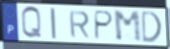D: (141, 10, 163, 45)
I: (49, 7, 58, 40)
M: (112, 10, 144, 44)
P: (93, 9, 115, 41)
Q: (20, 5, 44, 40)
R: (68, 10, 92, 39)
